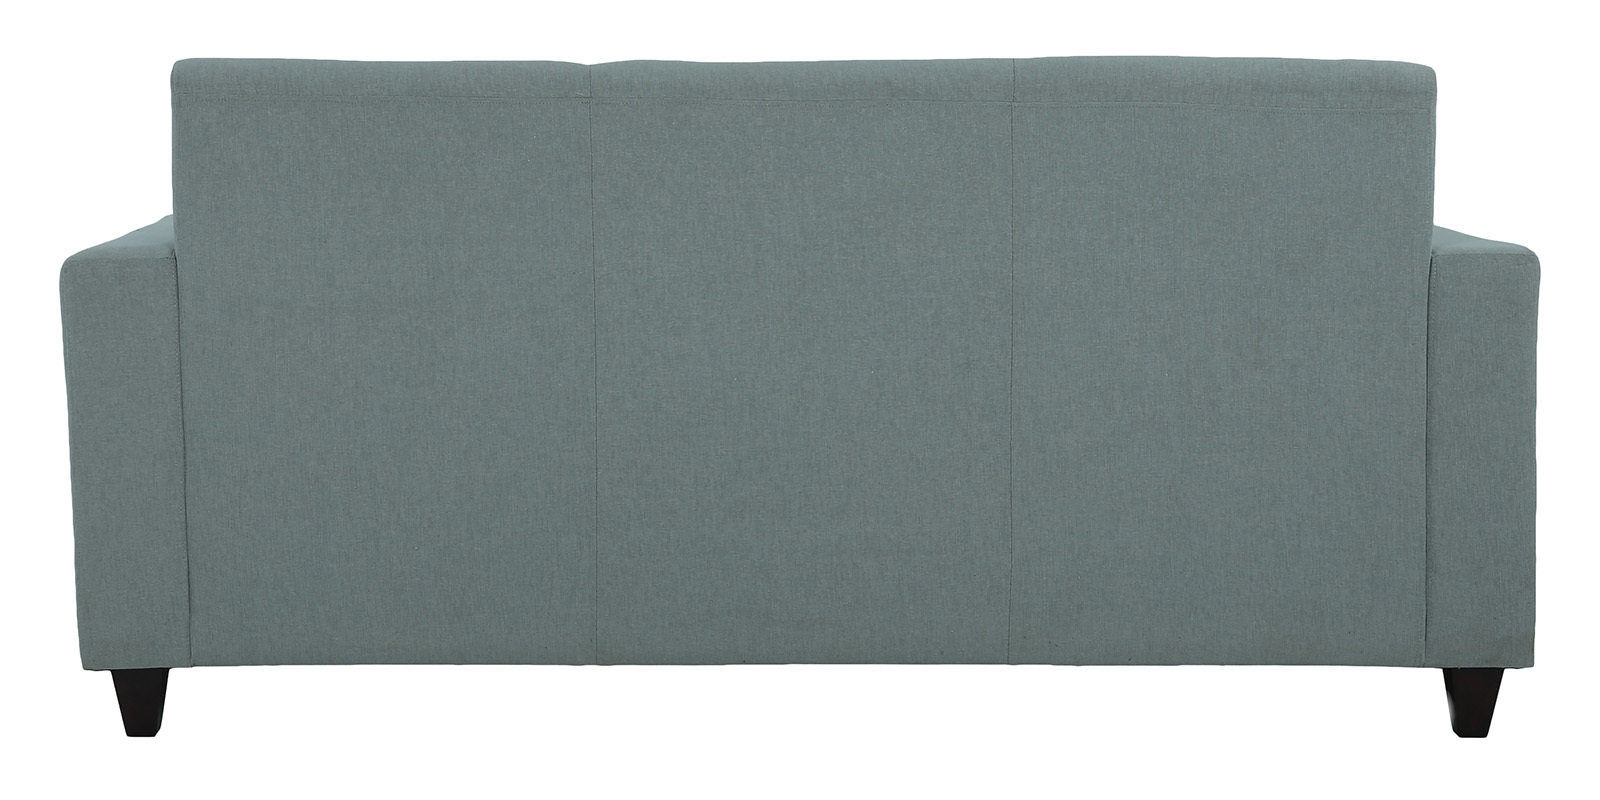Alba Three Seater Sofa in Ash Grey Colour by CasaCraft: (57, 51, 1543, 743)
